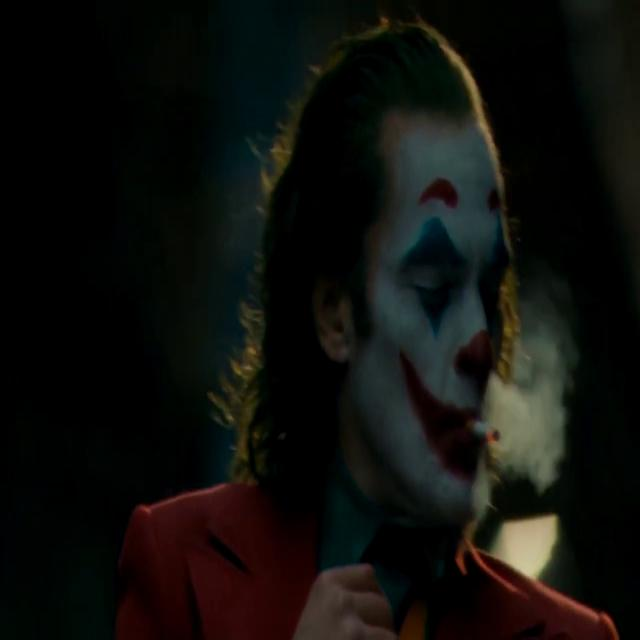Smooking: (471, 402, 508, 455)
